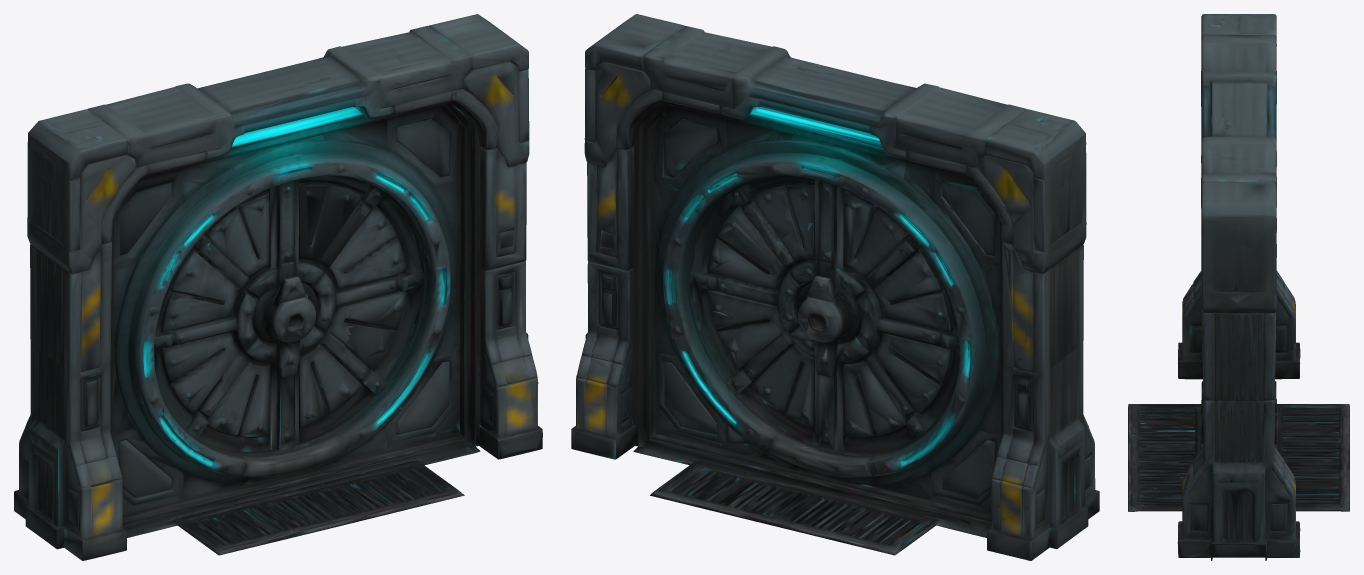
Rendered from hangar_gate.glb.
The picture shows the model from 3 angles, left to right: view 1: azimuth 30°, elevation 25°; view 2: azimuth 150°, elevation 25°; view 3: azimuth 270°, elevation 25°; orthographic projection. The views are drawn at different scales.
Visible parts, largest first — view 1: node_0; view 2: node_0; view 3: node_0.
Boxes of the visible parts, x1,y1,x2,y2 form: node_0: (14, 14, 542, 560); node_0: (571, 14, 1099, 560); node_0: (1128, 14, 1349, 560).
Size of the model in its own units: 0.9353 by 0.7532 by 0.4294.
Materials: 1 (1 with a texture image).
